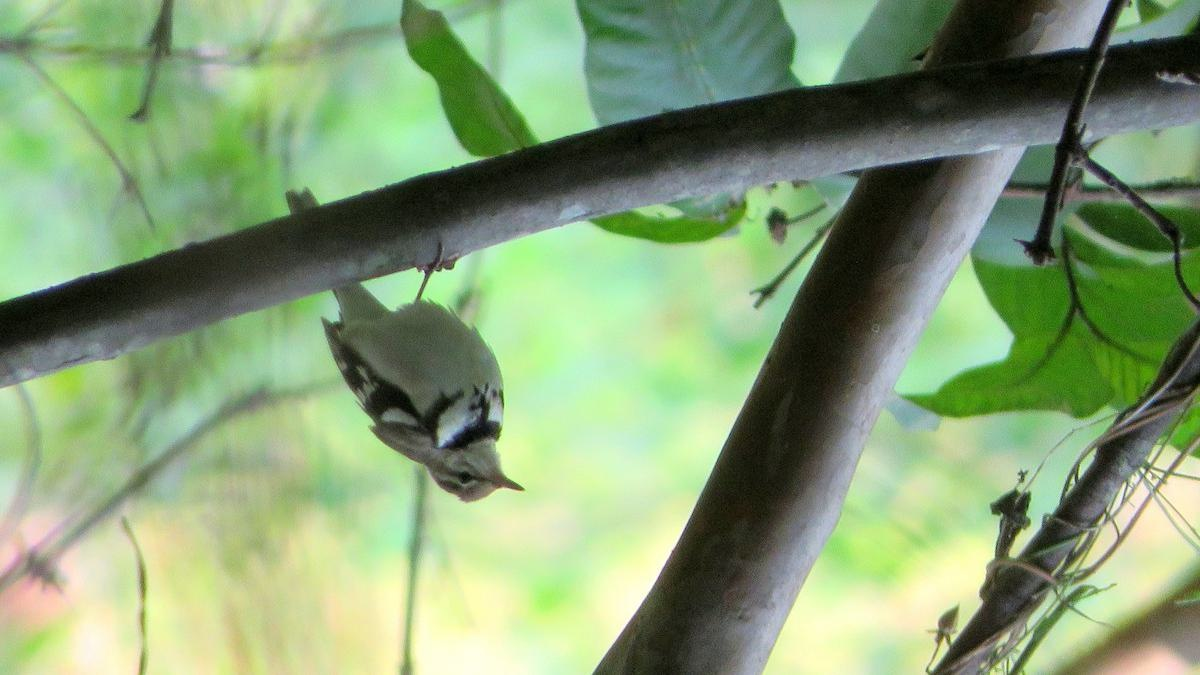wagtail: (319, 227, 531, 511)
